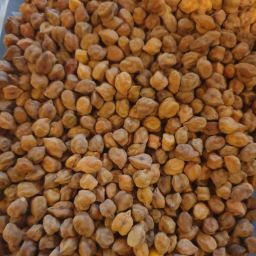Black Chickpeas: (2, 2, 256, 256), (16, 8, 136, 256), (144, 7, 252, 253)
